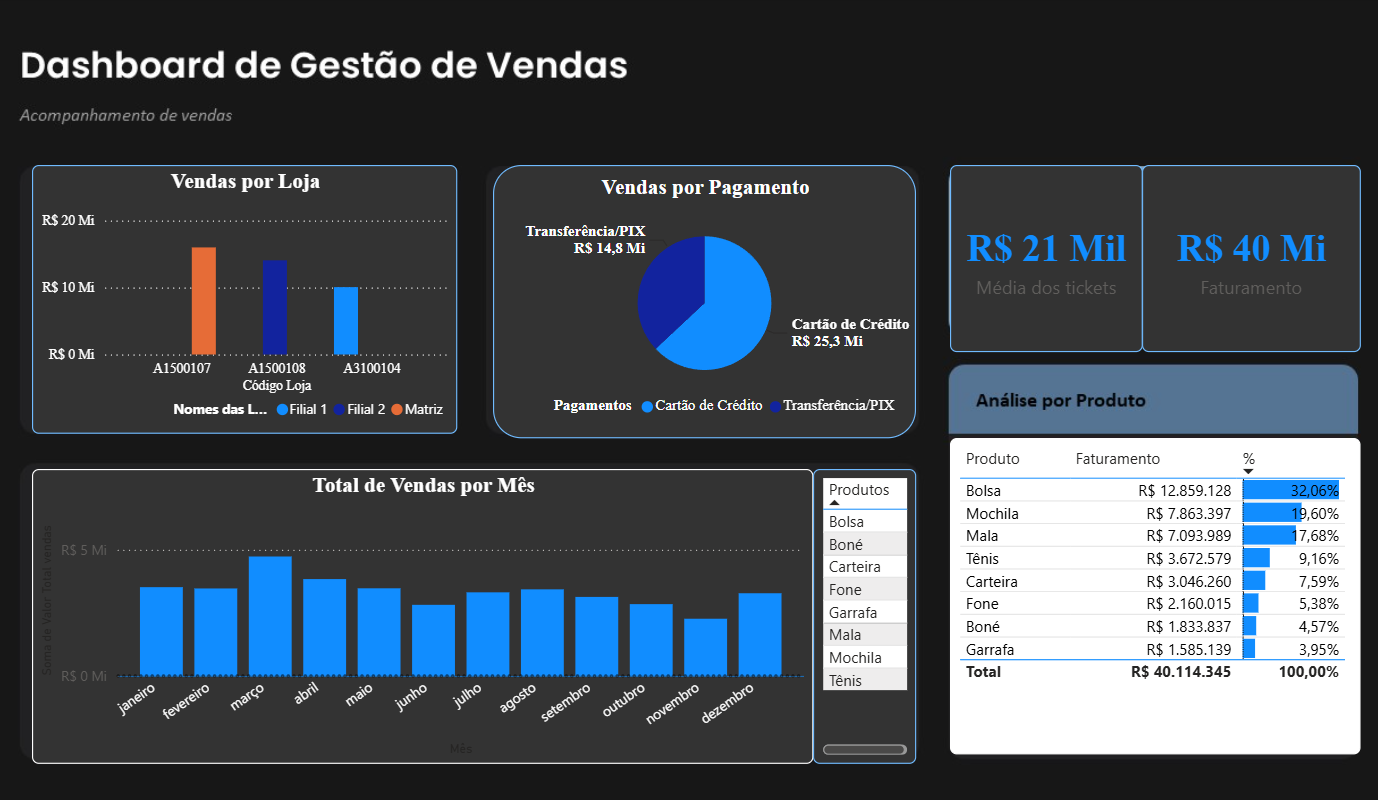

Layout of this report page (visuals, bound fields, positions):
{"tool":"powerbi","page":{"name":"Página 1","canvas":[1224,716],"ordinal":0},"visuals":[{"type":"card","fields":{"Values":["Sum(Registro de Vendas.Valor Total vendas)"]},"box":[1011.8,147.6,192.9,164.9],"z":0},{"type":"card","fields":{"Values":["Avg(Registro de Vendas.Valor Total vendas)"]},"box":[842.1,147.6,169.8,164.9],"z":1000},{"type":"columnChart","title":"Total de Vendas por Mês","fields":{"Category":["Registro de Vendas.Data Pedido.Variation.Hierarquia de datas.Mês"],"Y":["Sum(Registro de Vendas.Valor Total vendas)"]},"box":[32.8,415.7,688.7,260.4],"z":2000},{"type":"pieChart","title":"Vendas por Pagamento","fields":{"Category":["Registro de Vendas.Pagamento"],"Y":["Sum(Registro de Vendas.Valor Total vendas)"]},"box":[439.5,147.5,373,240.9],"z":3000},{"type":"clusteredColumnChart","title":"Vendas por Loja","fields":{"Category":["Registro de Vendas.Código Loja"],"Series":["lojas.nome_loja"],"Y":["Sum(Registro de Vendas.Valor Total vendas)"]},"box":[32.8,147.5,374.9,237.1],"z":4000},{"type":"tableEx","fields":{"Values":["Registro de Vendas.Produto","Sum(Registro de Vendas.Valor Total vendas)","Divide(Sum(Registro de Vendas.Valor Total vendas), ScopedEval(Sum(Registro de Vendas.Valor Total vendas), []))"]},"box":[842.3,388.4,362.4,279.5],"z":5000},{"type":"tableEx","fields":{"Values":["Registro de Vendas.Produto"]},"box":[721.5,415.7,90.7,260.4],"z":5001}]}

Visuals, with their boxes in screenshot pixels (x1, y1, x2, y2), scaled from the page's 1224x716 canvas onto the 1378x800 screenshot:
card - Sum(Registro de Vendas.Valor Total vendas): <box>1139,165,1356,349</box>
card - Avg(Registro de Vendas.Valor Total vendas): <box>948,165,1139,349</box>
"Total de Vendas por Mês" columnChart: <box>37,464,812,755</box>
"Vendas por Pagamento" pieChart: <box>495,165,915,434</box>
"Vendas por Loja" clusteredColumnChart: <box>37,165,459,430</box>
tableEx - Registro de Vendas.Produto x Sum(Registro de Vendas.Valor Total vendas): <box>948,434,1356,746</box>
tableEx - Registro de Vendas.Produto: <box>812,464,914,755</box>
